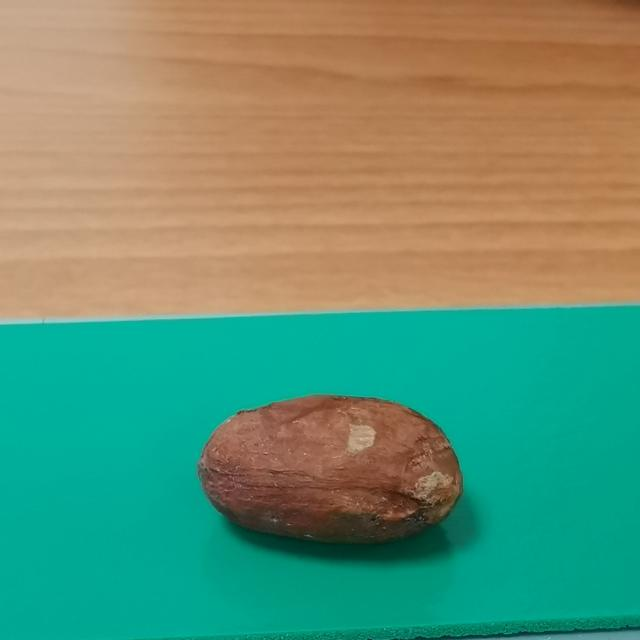Fine_cocoabeans: (121, 357, 556, 625)
